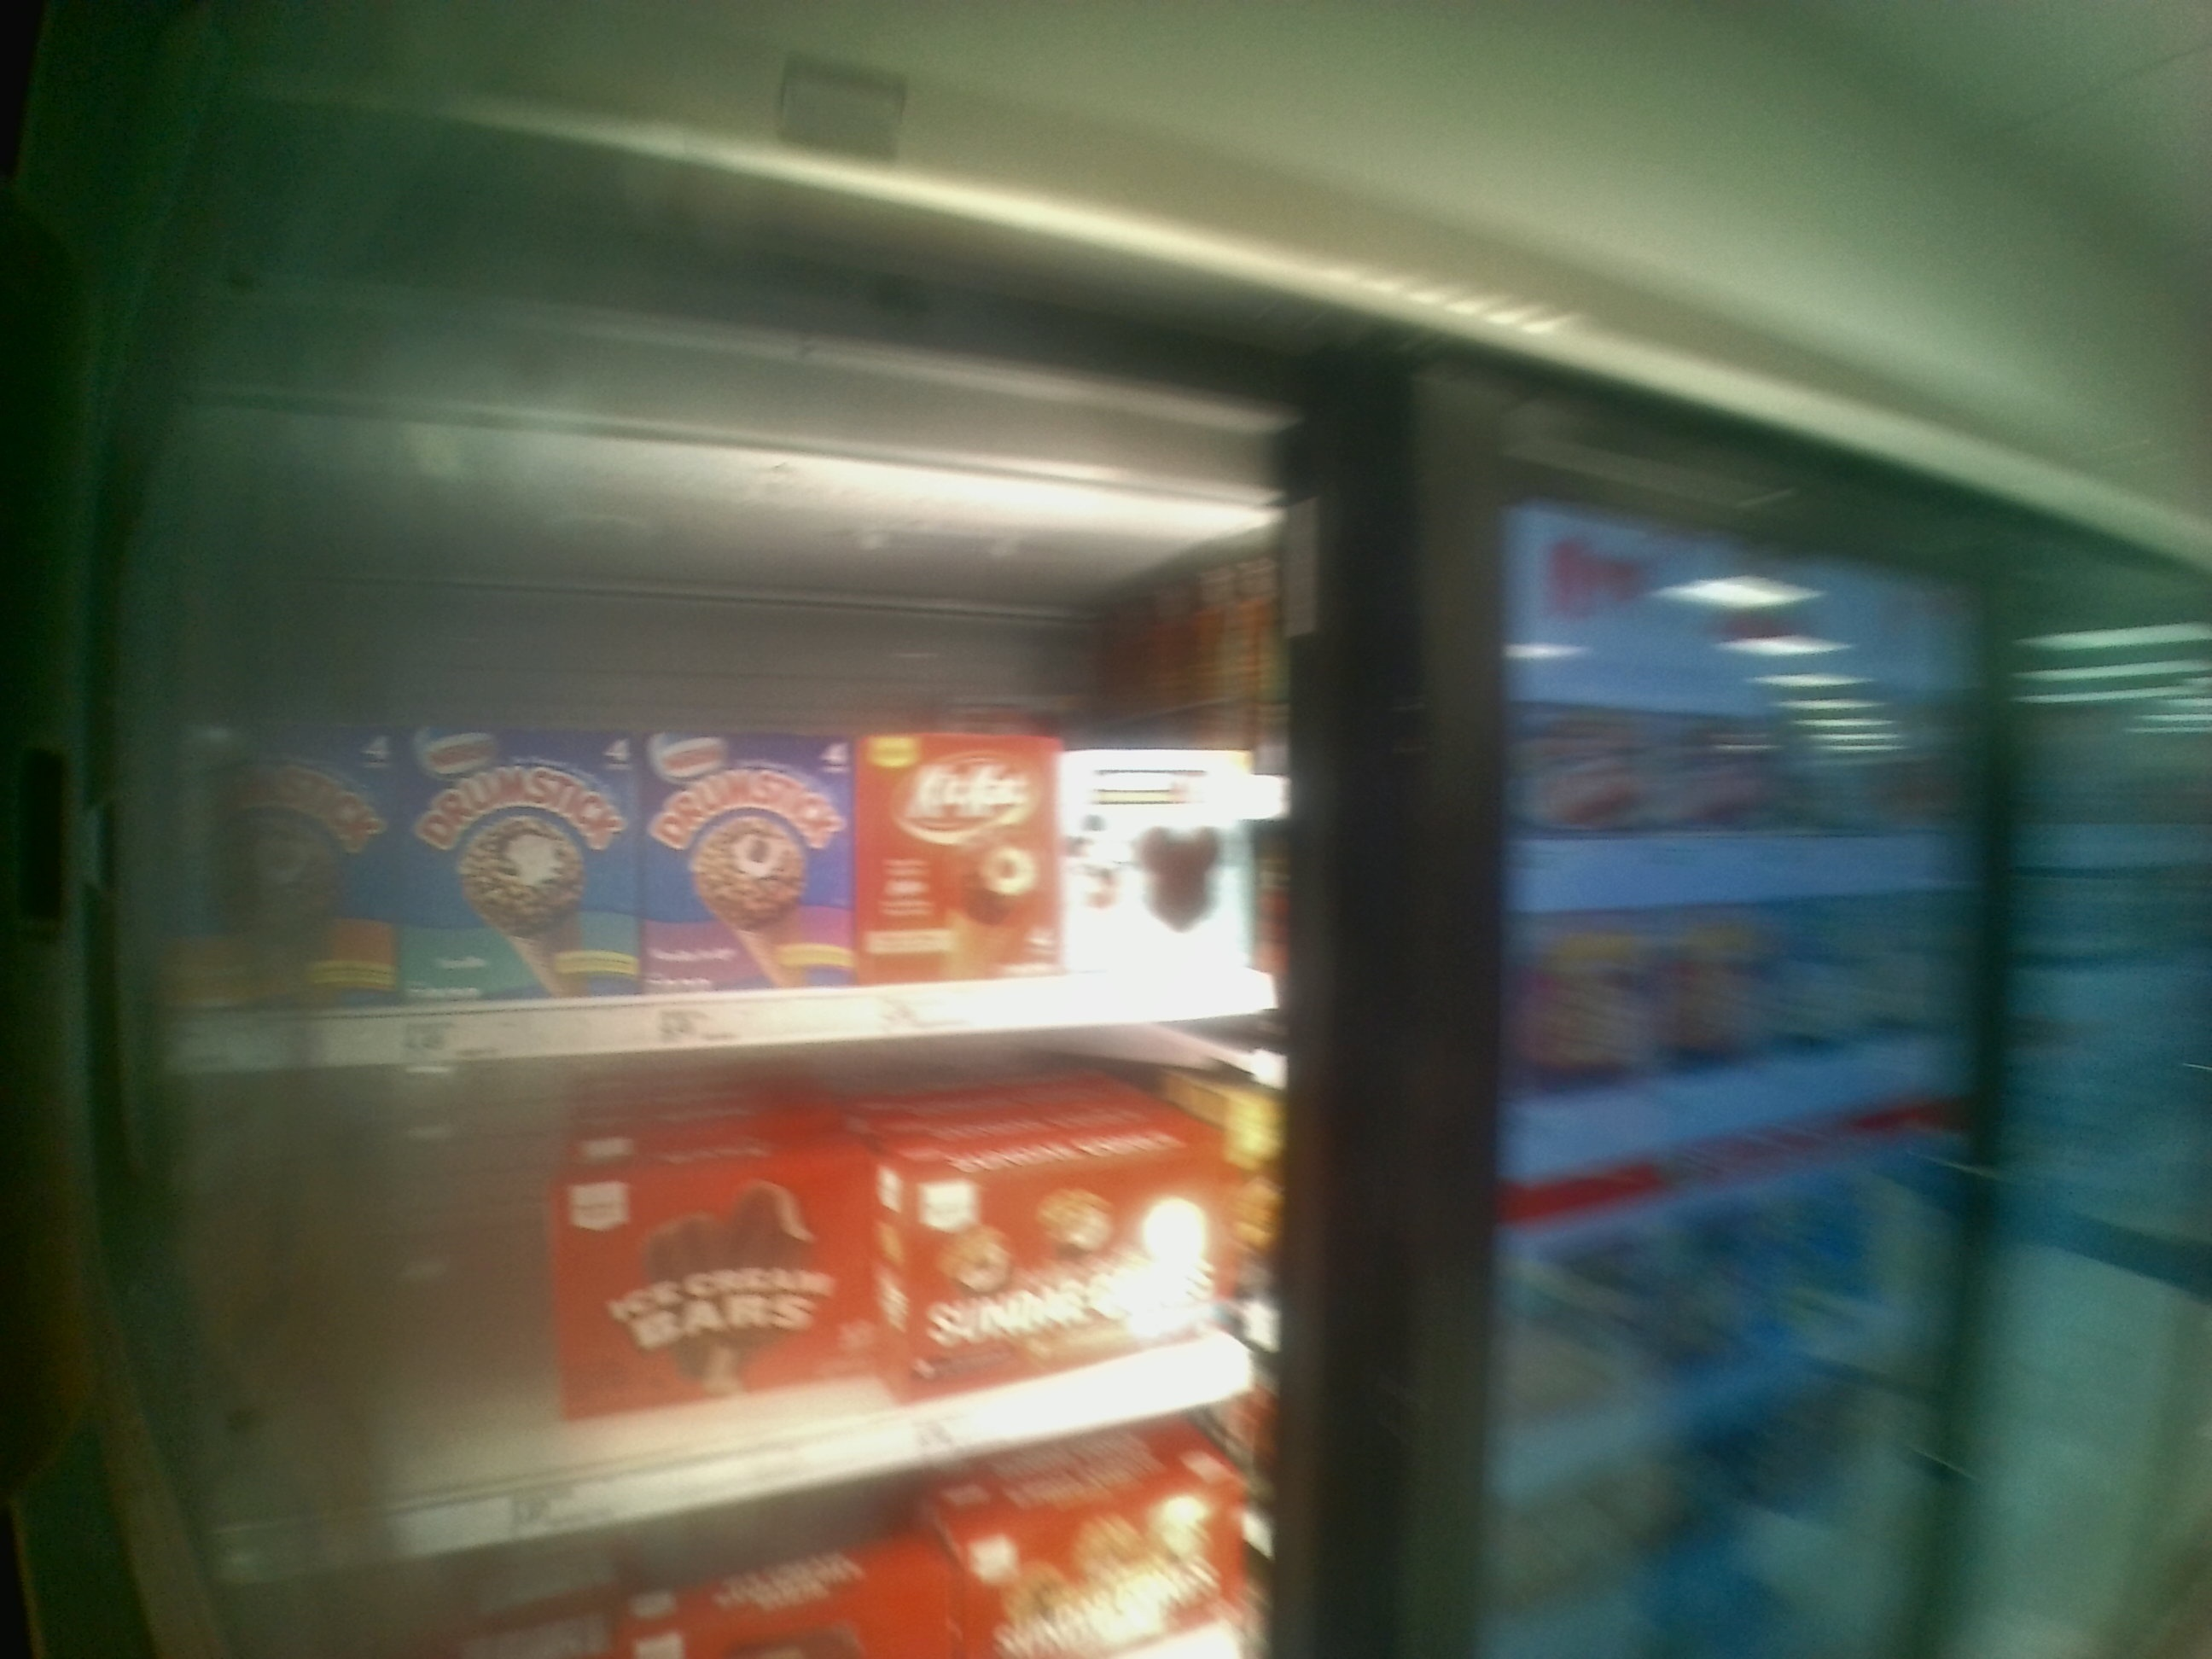shelf: (118, 575, 1263, 1058)
